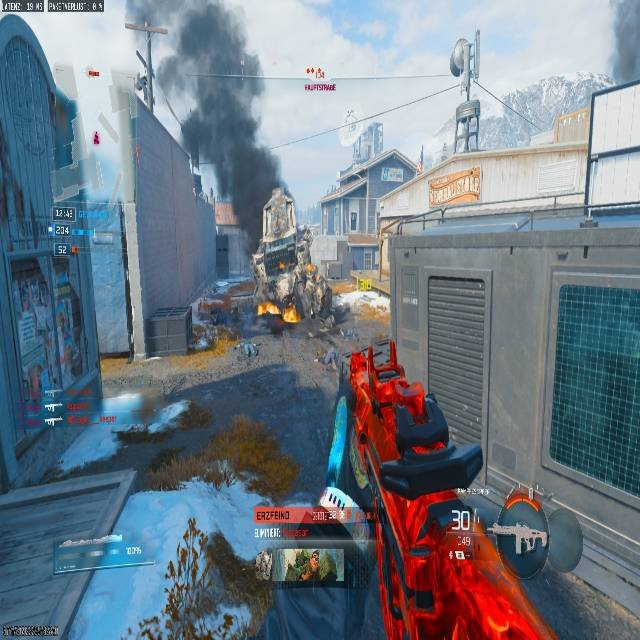head: (271, 187, 282, 199)
player: (264, 187, 293, 238)
